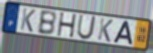A: (113, 21, 134, 47)
B: (37, 10, 58, 37)
H: (56, 12, 78, 39)
K: (97, 17, 115, 44), (19, 7, 37, 34)
U: (75, 14, 97, 41)
